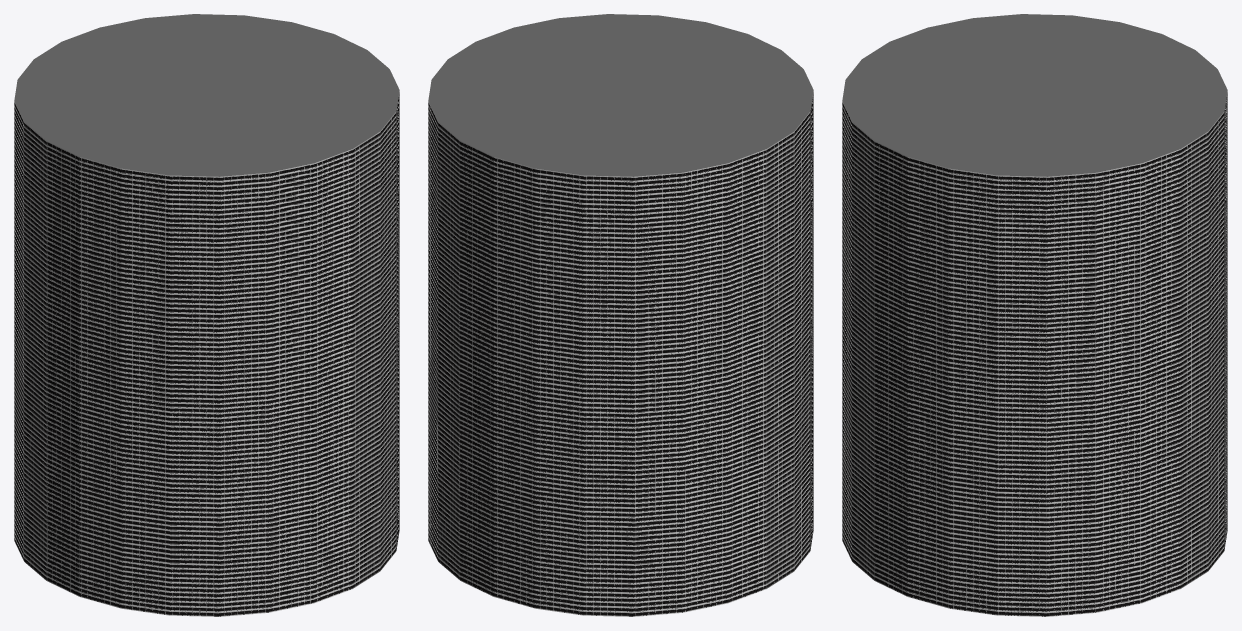
3 views of the same model, side by side, from view 1: azimuth 30°, elevation 25°; view 2: azimuth 150°, elevation 25°; view 3: azimuth 270°, elevation 25° (orthographic).
Parts seen in each view (by area): view 1: mesh1_mesh1-geometry; view 2: mesh1_mesh1-geometry; view 3: mesh1_mesh1-geometry.
Part boxes in pixels (x1,y1,x2,y2): mesh1_mesh1-geometry: (14,14,399,616); mesh1_mesh1-geometry: (428,14,813,616); mesh1_mesh1-geometry: (842,14,1227,616).
Bounding box in the file's own units: 0.5279 × 0.6653 × 0.5279.
